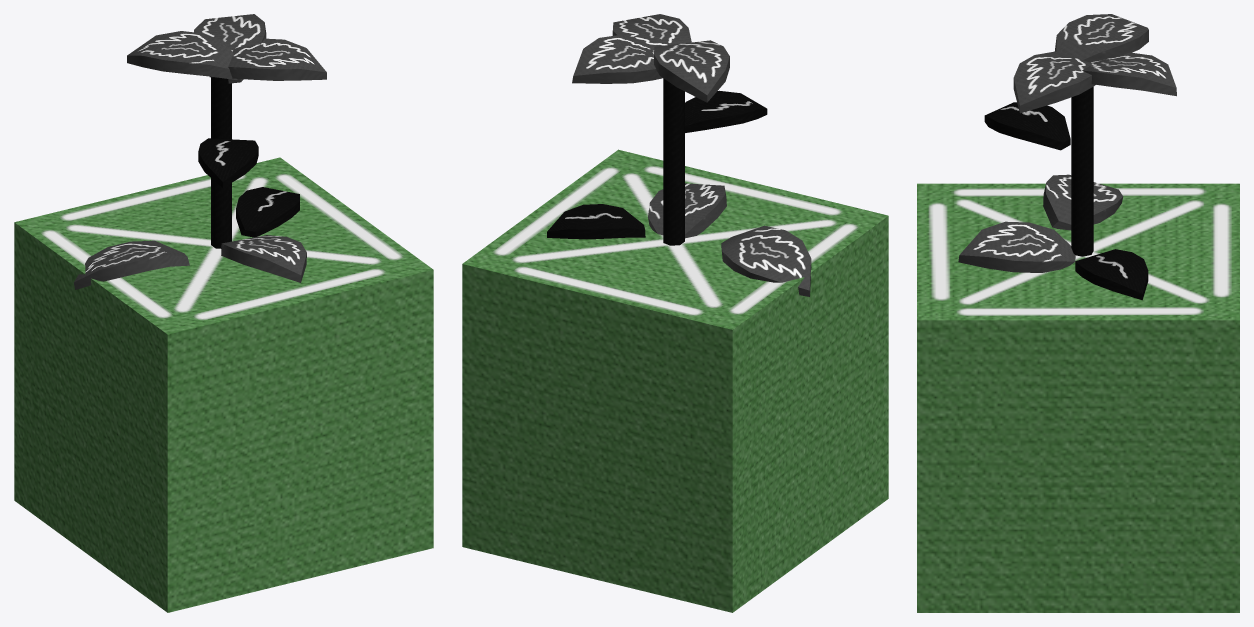
The model's file is spalony_kwiatek.fbx.
3 views of the same model, side by side, from view 1: azimuth 30°, elevation 25°; view 2: azimuth 150°, elevation 25°; view 3: azimuth 270°, elevation 25° (orthographic). The views are drawn at different scales.
Visible parts, largest first — view 1: Box001.004, Box006.002, Box006.005, Box006.003, Box006.004, Cylinder001.002, Box010.002, Box011.002, Box006.006; view 2: Box001.004, Box006.003, Cylinder001.002, Box006.002, Box006.006, Box010.002, Box011.002, Box006.004, Box006.005; view 3: Box001.004, Box006.004, Cylinder001.002, Box006.005, Box006.002, Box006.006, Box011.002, Box010.002, Box006.003.
Boxes of the visible parts, <box> form: Box001.004: <box>14,157,433,612</box>; Box006.002: <box>127,31,237,79</box>; Box006.005: <box>210,38,326,80</box>; Box006.003: <box>74,240,189,289</box>; Box006.004: <box>221,235,306,282</box>; Cylinder001.002: <box>211,77,231,248</box>; Box010.002: <box>236,187,299,237</box>; Box011.002: <box>198,138,258,187</box>; Box006.006: <box>194,14,266,83</box>; Box001.004: <box>462,149,888,612</box>; Box006.003: <box>721,225,811,296</box>; Cylinder001.002: <box>663,78,684,245</box>; Box006.002: <box>654,40,729,102</box>; Box006.006: <box>572,35,662,83</box>; Box010.002: <box>547,204,645,239</box>; Box011.002: <box>685,90,767,132</box>; Box006.004: <box>648,183,726,238</box>; Box006.005: <box>612,14,691,50</box>; Box001.004: <box>917,183,1239,612</box>; Box006.004: <box>958,221,1075,272</box>; Cylinder001.002: <box>1071,86,1093,256</box>; Box006.005: <box>1013,51,1095,113</box>; Box006.002: <box>1054,14,1148,62</box>; Box006.006: <box>1082,52,1176,96</box>; Box011.002: <box>984,102,1070,150</box>; Box010.002: <box>1075,249,1148,300</box>; Box006.003: <box>1043,174,1123,230</box>.
Size of the model in its own units: 26.17 by 43.41 by 25.4.
